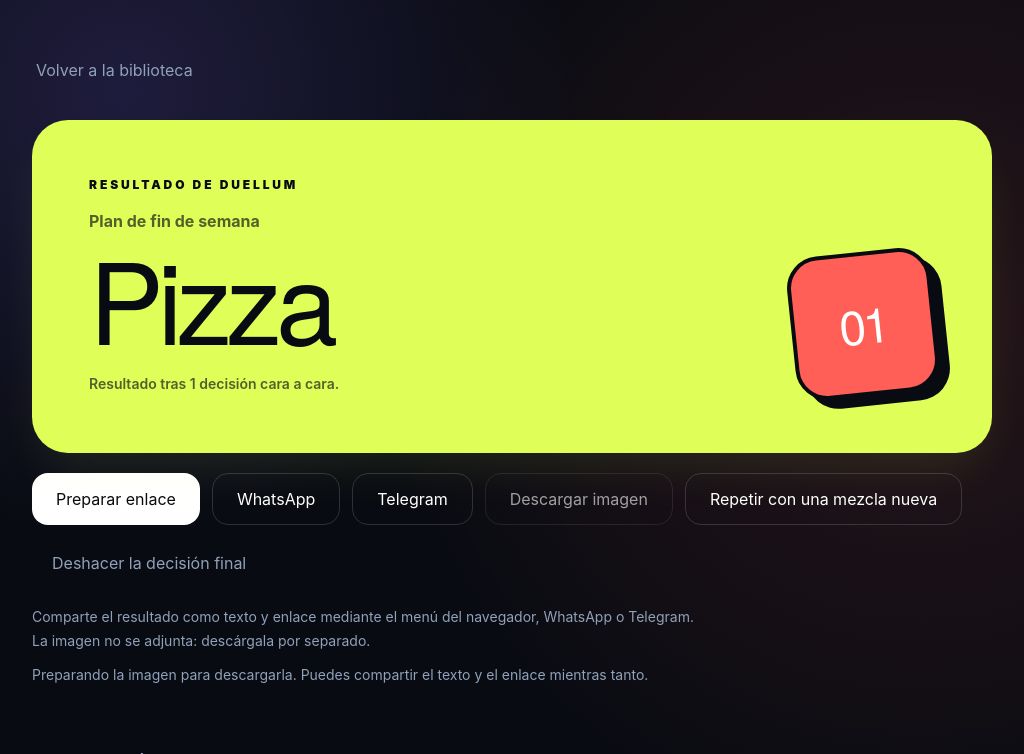
it: ResultScreen sharing controls › shows the bounded local-font publication error and closes a reserved direct-service popup
The width and height of the screenshot is (1024, 754).
Click the button "WhatsApp" at (276, 499), box [212,473,340,525]
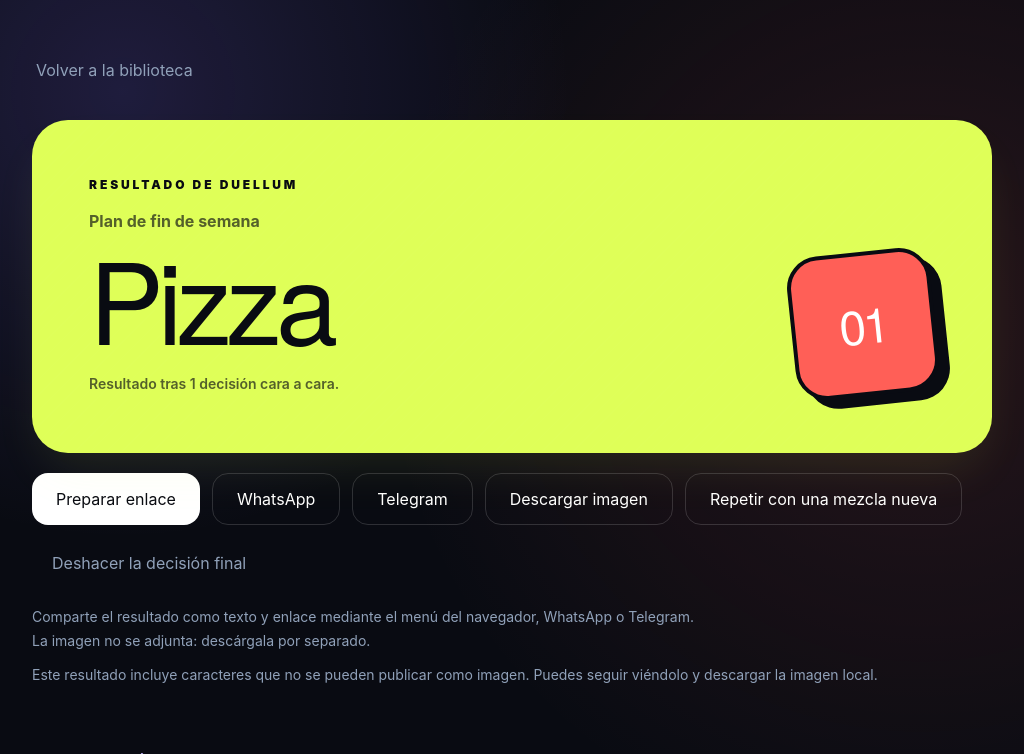
Expected: the message shows "Este resultado incluye caracteres que no se pueden publicar como imagen. Puedes seguir viéndolo y descargar la imagen local.", [32,666,878,683]
